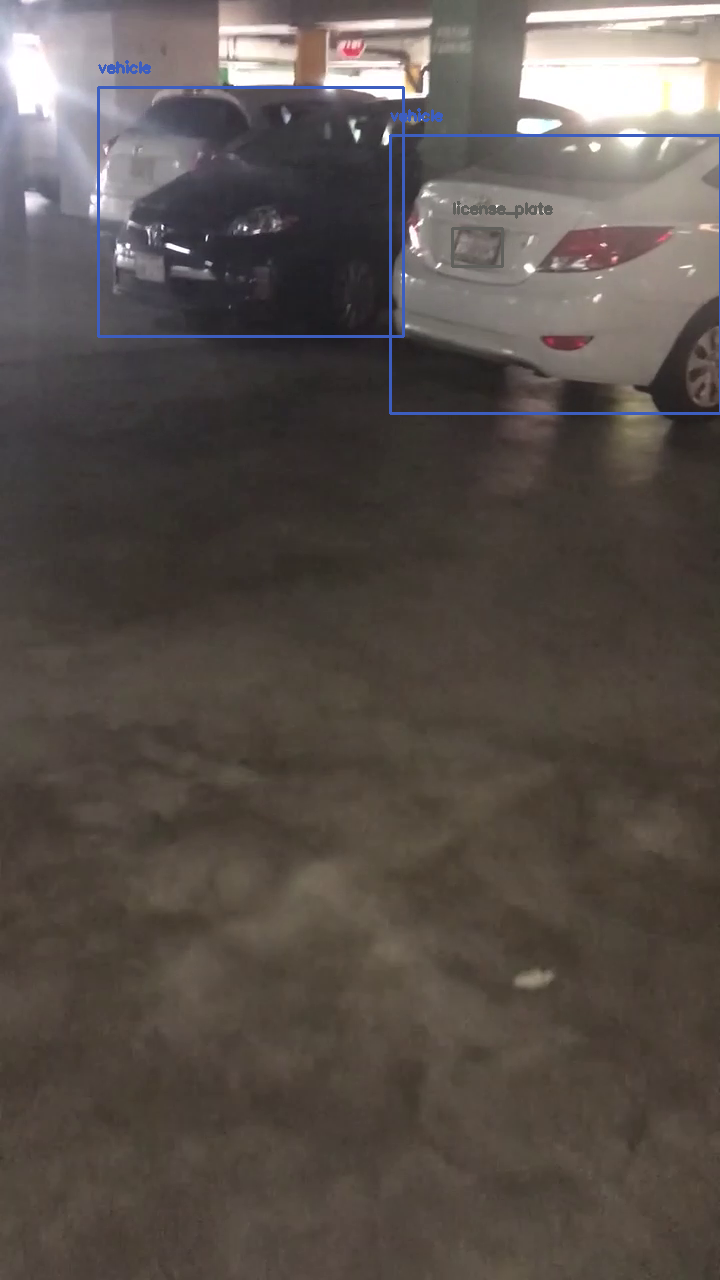license_plate: (452, 228, 502, 266)
vehicle: (390, 135, 720, 413), (98, 87, 403, 336)
